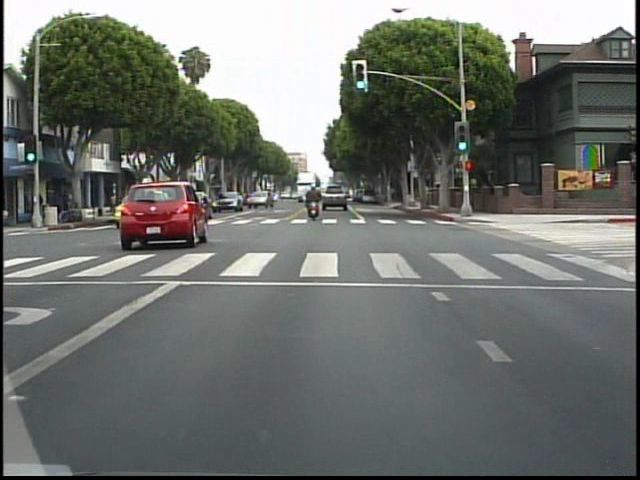person: (304, 178, 327, 224)
